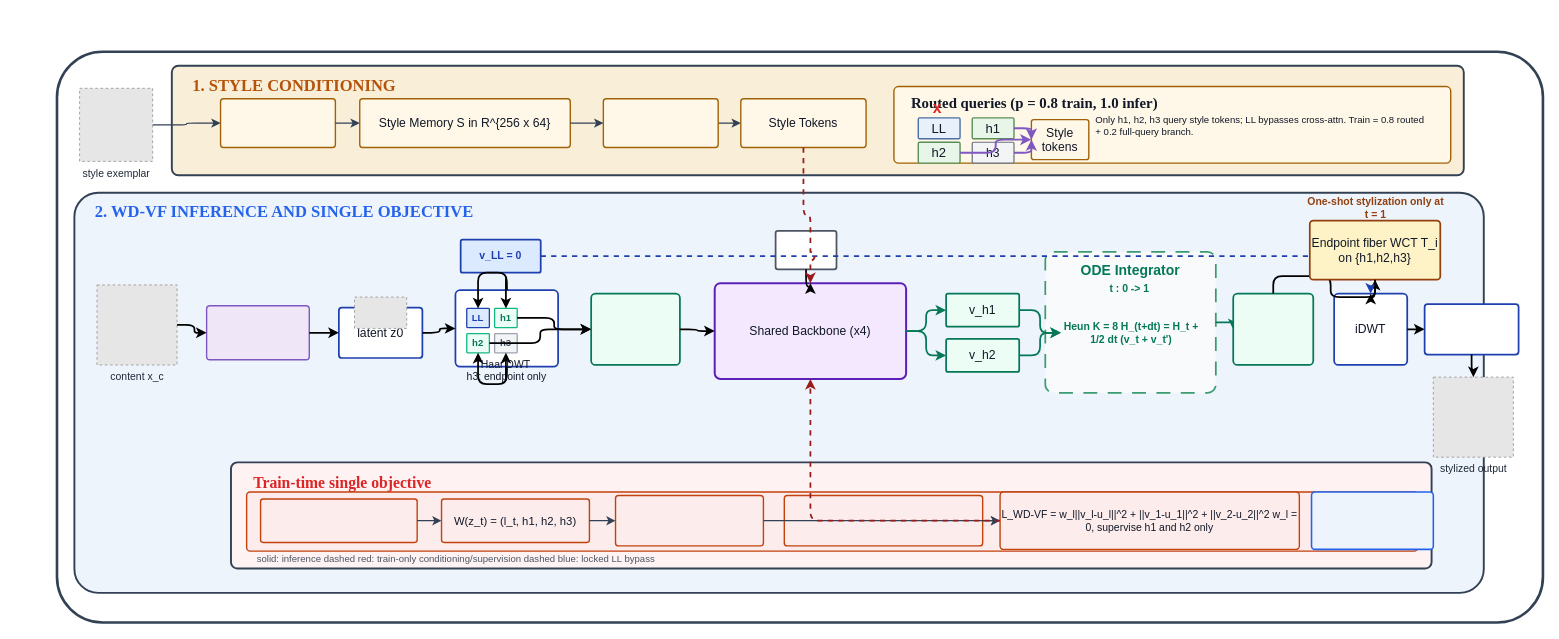
The diagram is 1559 pixels wide and 639 high, and some of its shapes have lost their labels. Grey dashed boxes stand in for pictures. Each missing label, with the centre of its shape:
"H_hat" belongs at (1273,328).
"Predict (v_l, v_1, v_2)" belongs at (689,520).
"Pure routed: L = ||v_1-u_1||^2 + ||v_2-u_2||^2 LL absent from loss + queries" belongs at (1372,520).
"spectral H_t" belongs at (635,328).
"Style ID s" belongs at (277,123).
"Style Tokenizer" belongs at (660,123).
"Target W(u_t) = (u_l, u_1, u_2, u_3)" belongs at (883,520).
"time t" belongs at (805,250).
"VAE Decode" belongs at (1471,329).
"VAE Encoder" belongs at (257,332).
"z_t = (1-t) z_0 + t z_1" belongs at (338,520).
